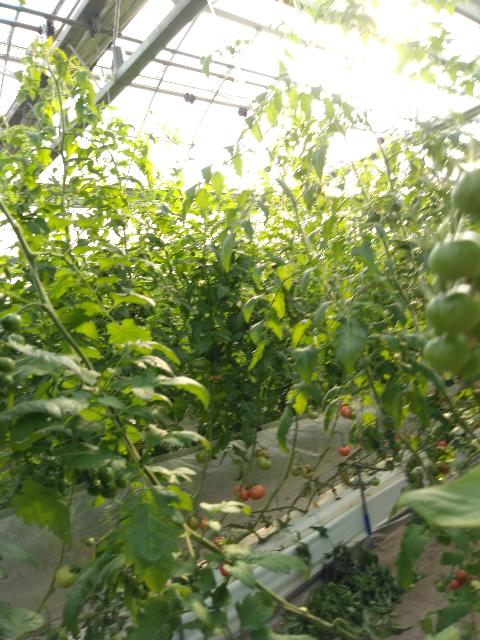l_fully_ripened: (234, 486, 250, 502)
l_green: (425, 285, 480, 334), (426, 231, 480, 280), (422, 334, 469, 371), (451, 166, 479, 215), (56, 567, 79, 588), (2, 313, 22, 332), (101, 482, 118, 499), (255, 456, 272, 471), (87, 481, 103, 496), (98, 467, 114, 482), (0, 357, 14, 373)
l_half_ripened: (249, 485, 265, 501)
